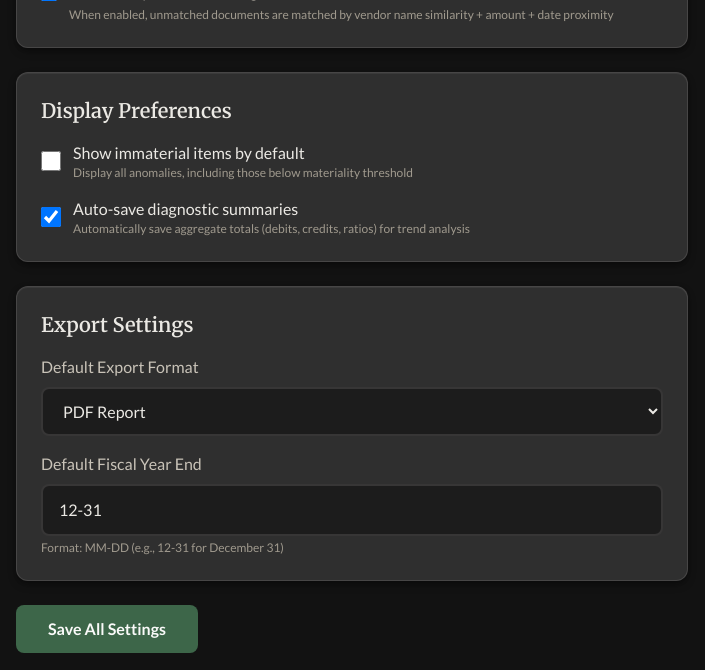
Test: PracticeSettingsPage › shows success message after saving
(page scrolled)
Click the button "Save All Settings" at [107, 629], box [16,605,198,653]
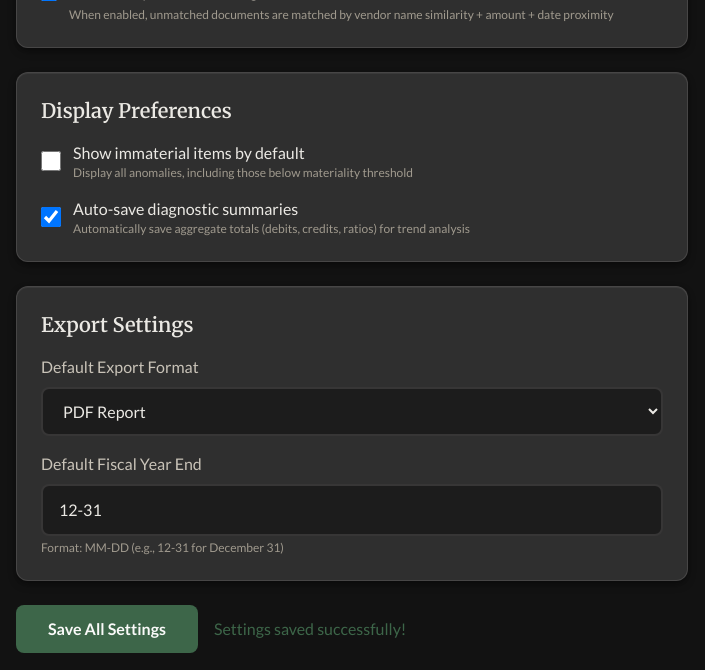
Now the text "Settings saved successfully!" is shown, box [214,617,406,641]
